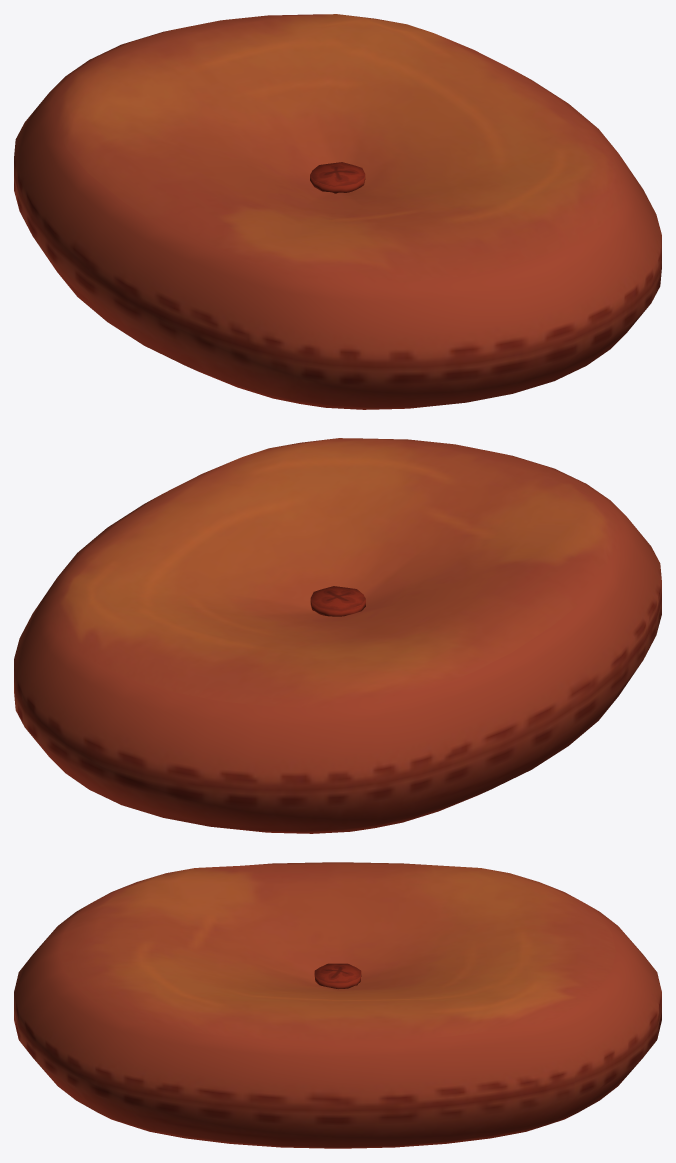
The model's file is Pillow01.fbx.
3 renders of one model, top to bottom at view 1: azimuth 30°, elevation 25°; view 2: azimuth 150°, elevation 25°; view 3: azimuth 270°, elevation 25°, orthographic. The views are drawn at different scales.
Parts seen in each view (by area): view 1: Pillow02; view 2: Pillow02; view 3: Pillow02.
Boxes of the visible parts, x1=… form: Pillow02: x1=14, y1=14, x2=661, y2=409; Pillow02: x1=14, y1=438, x2=661, y2=833; Pillow02: x1=14, y1=862, x2=661, y2=1148.
Size of the model in its own units: 4.43 by 1.29 by 5.83.
